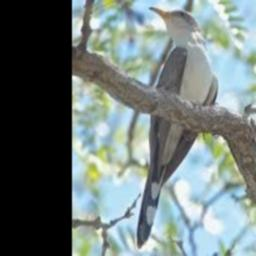Cuckoo: (136, 6, 218, 249)
